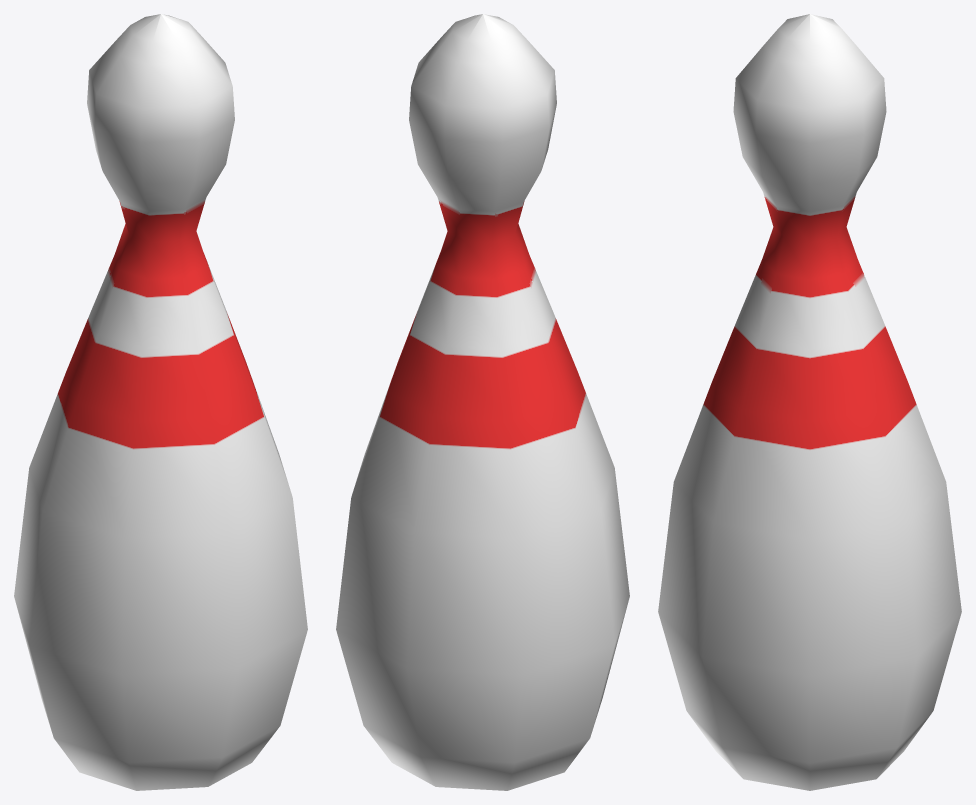
The model's file is pin.fbx.
The picture shows the model from 3 angles, left to right: view 1: azimuth 30°, elevation 25°; view 2: azimuth 150°, elevation 25°; view 3: azimuth 270°, elevation 25°; orthographic projection.
Visible parts, largest first — view 1: pin; view 2: pin; view 3: pin.
Part boxes in pixels (box(x1,y1,x2,y2)): pin: box(14, 14, 307, 790); pin: box(336, 14, 629, 790); pin: box(658, 14, 961, 790).
Bounding box in the file's own units: 0.0133 × 0.0355 × 0.0133.
Materials: 1 (1 with a texture image).
